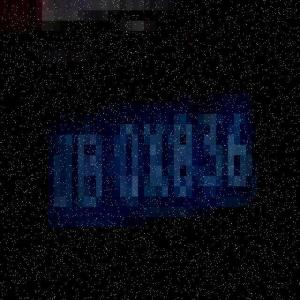Plate: (36, 78, 274, 252)
